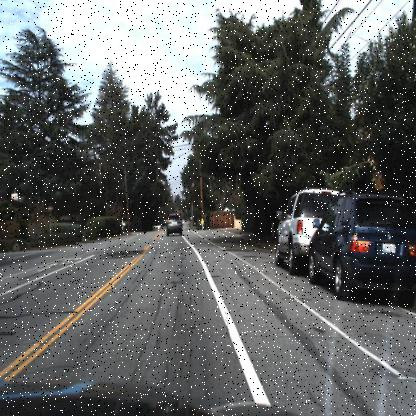car: (306, 184, 415, 302), (270, 177, 312, 285), (160, 207, 186, 244)
